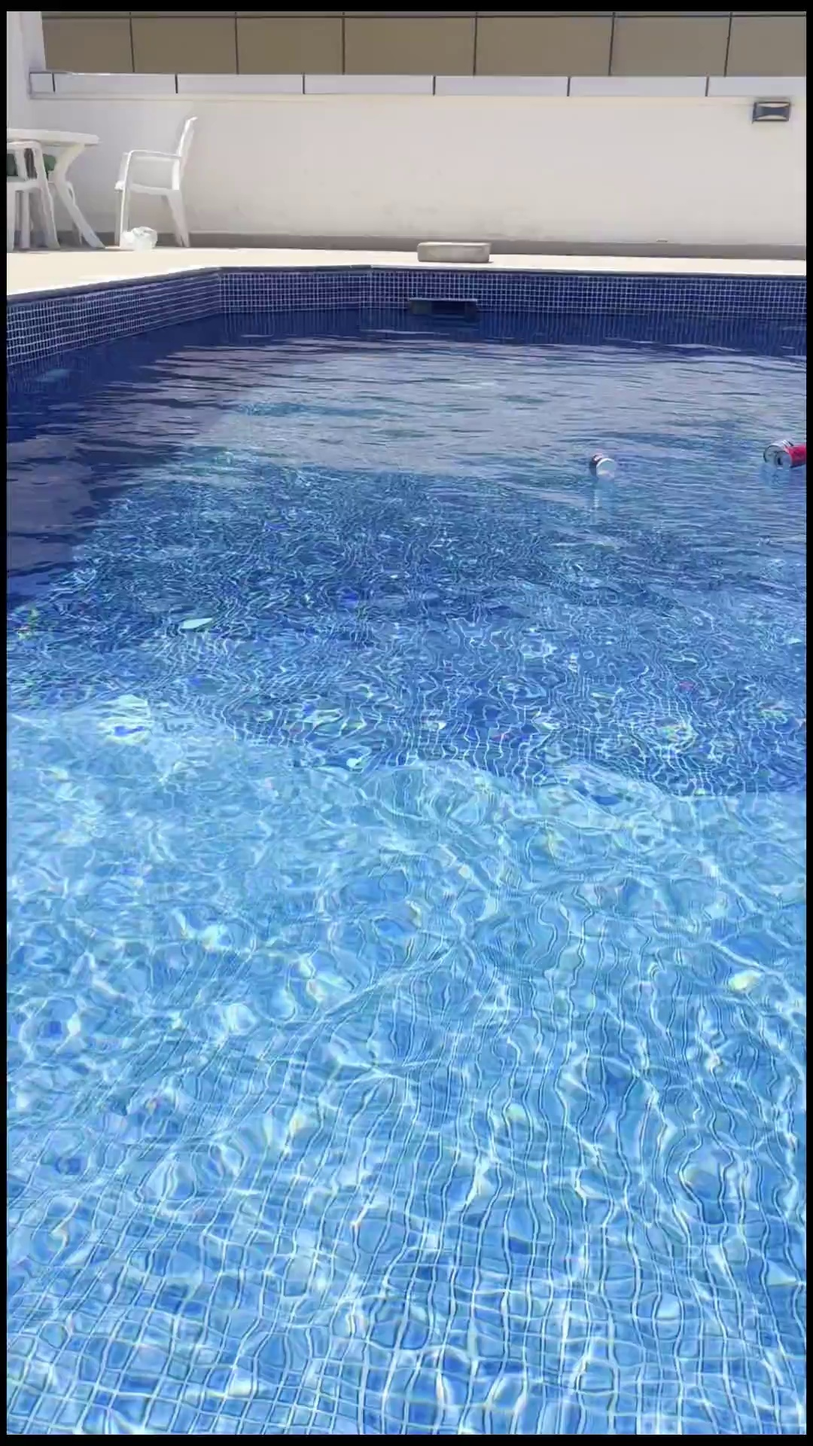debris: (756, 428, 802, 482), (584, 438, 618, 494)
